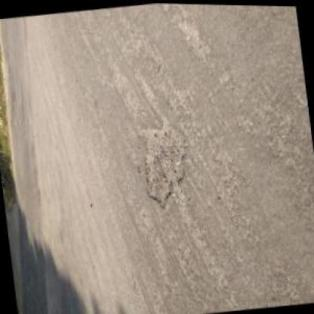Hueco: (135, 112, 195, 211)
